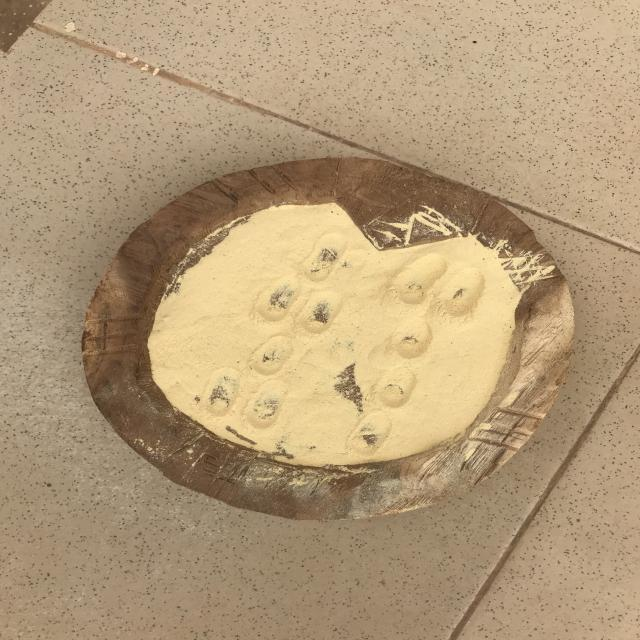double: (385, 255, 493, 316), (189, 368, 293, 426), (248, 280, 350, 333)
single: (296, 230, 354, 280), (342, 412, 398, 456), (246, 332, 298, 376), (388, 318, 437, 360), (374, 366, 421, 408)
